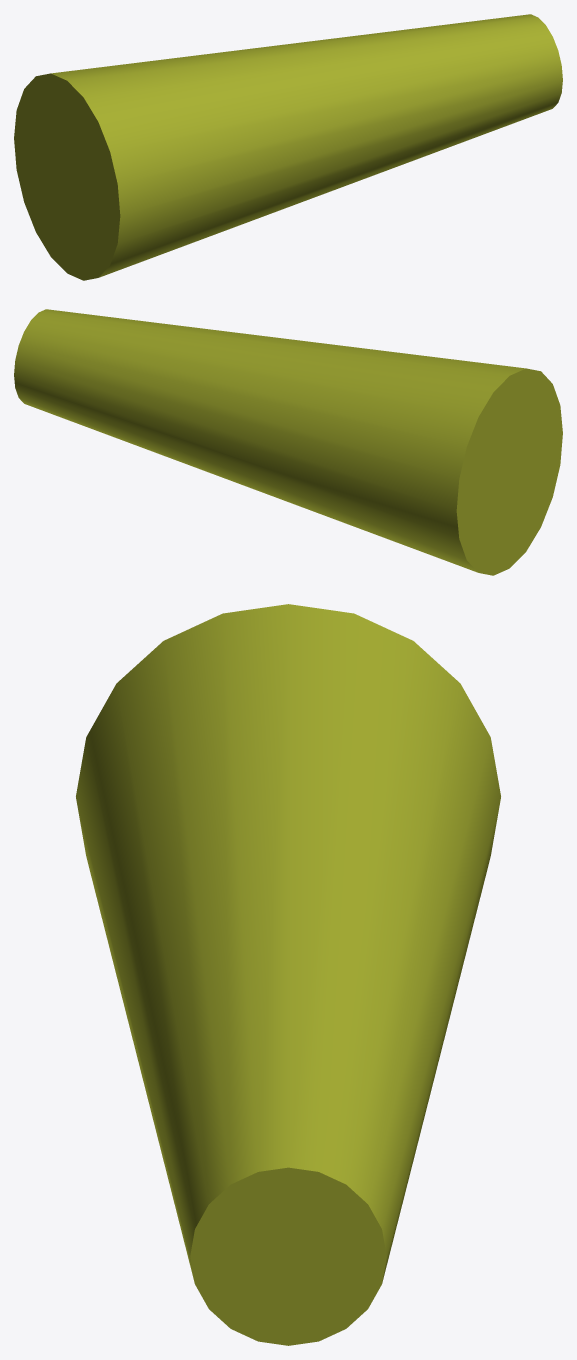
File: bullet.fbx
3 renders of one model, top to bottom at view 1: azimuth 30°, elevation 25°; view 2: azimuth 150°, elevation 25°; view 3: azimuth 270°, elevation 25°, orthographic. The views are drawn at different scales.
Visible parts, largest first — view 1: pCylinder1; view 2: pCylinder1; view 3: pCylinder1.
Boxes of the visible parts, x1=… form: pCylinder1: x1=14, y1=14, x2=562, y2=280; pCylinder1: x1=14, y1=309, x2=562, y2=575; pCylinder1: x1=76, y1=604, x2=500, y2=1345.
Size of the model in its own units: 2.54 by 0.991 by 0.991.
